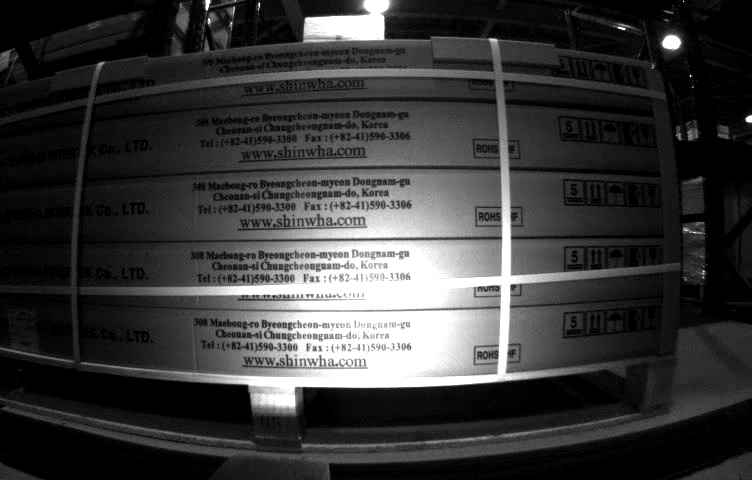True Barcode: (10, 308, 35, 354)
